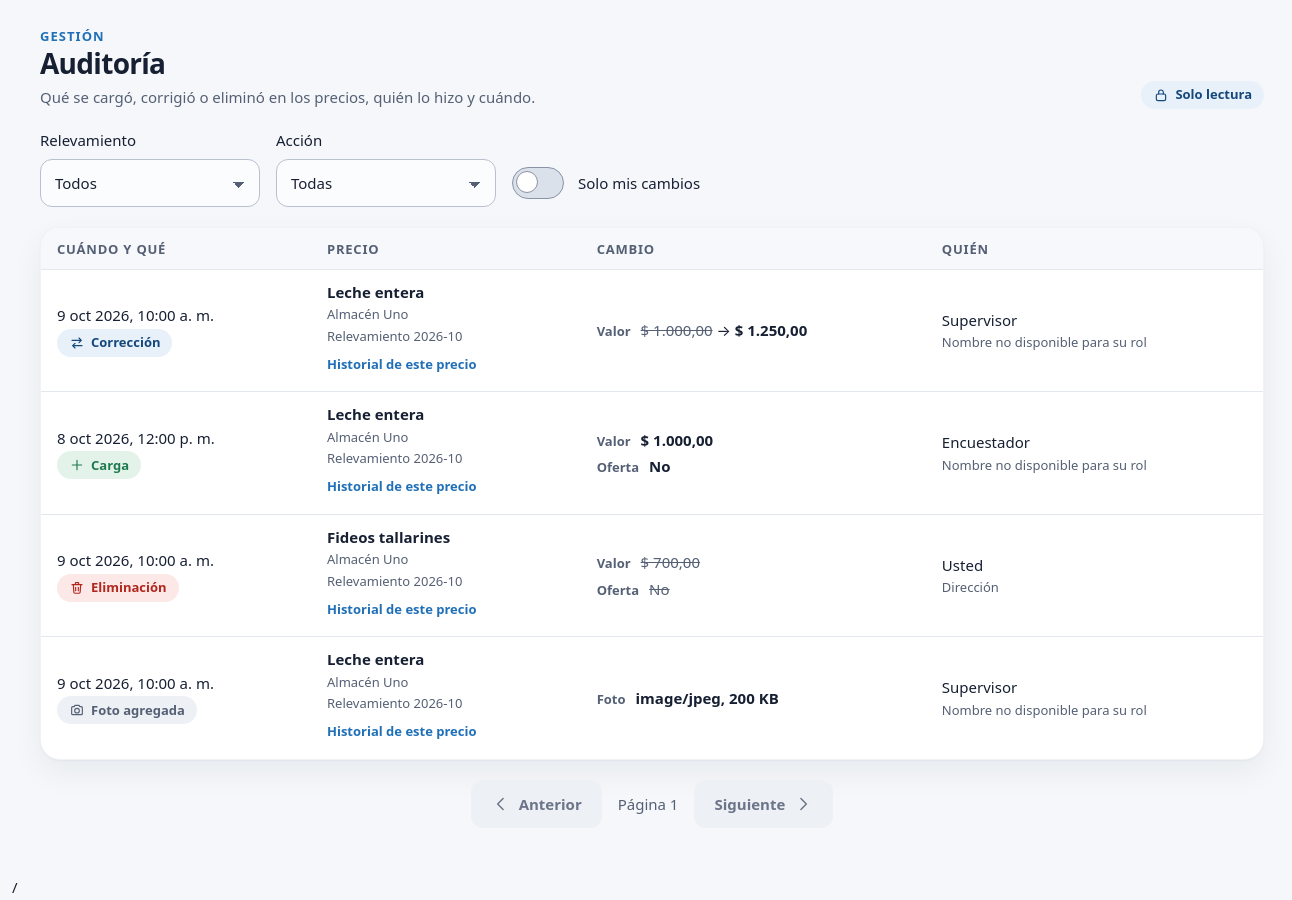
Test case: filters in the URL › narrows to one price from a row
Click the button "Historial de este precio" next to "Corrección" at (402, 364), box [319,348,484,380]
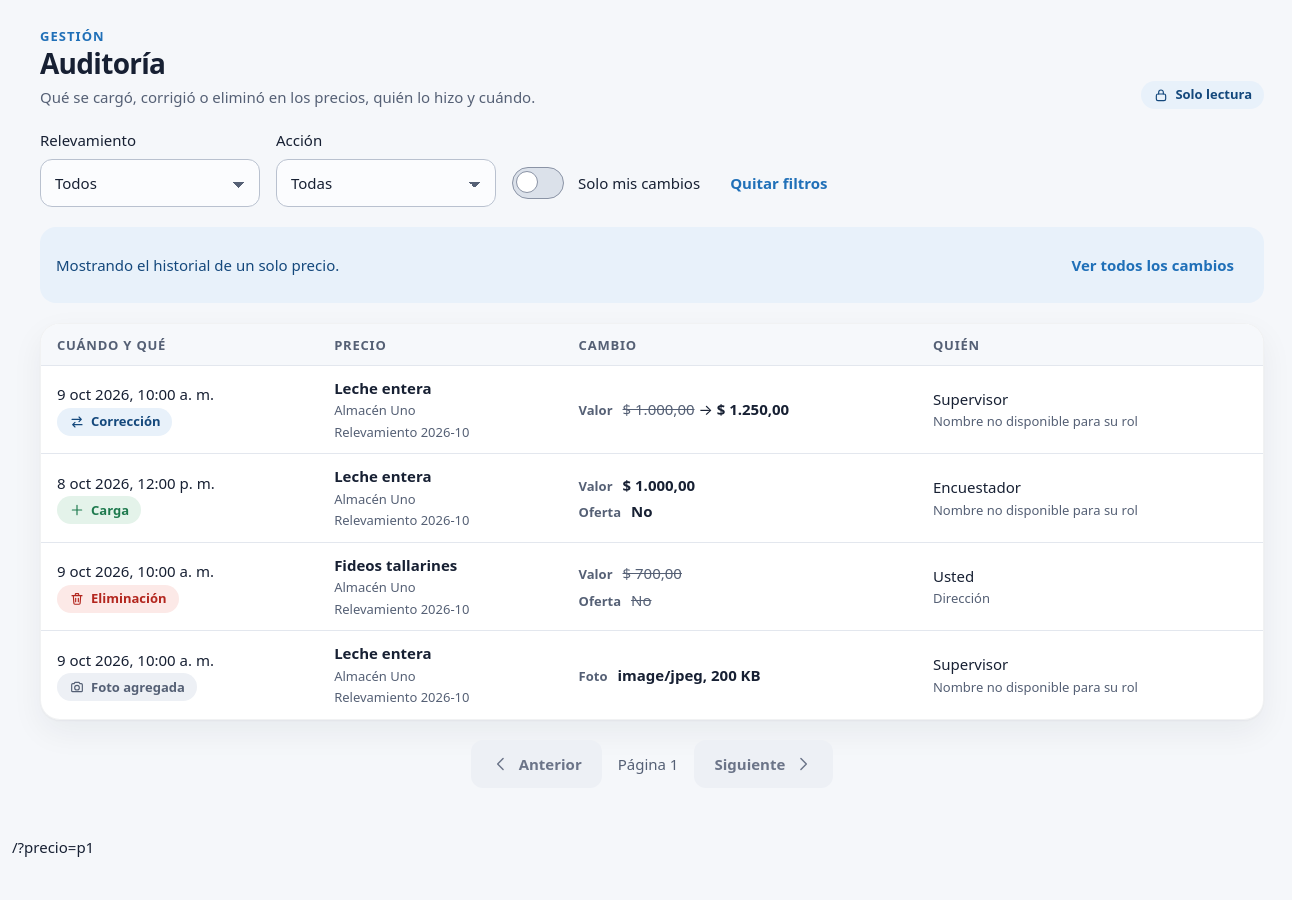
Check: the text with test id "location" shows "precio=p1", box [12,837,94,857]
